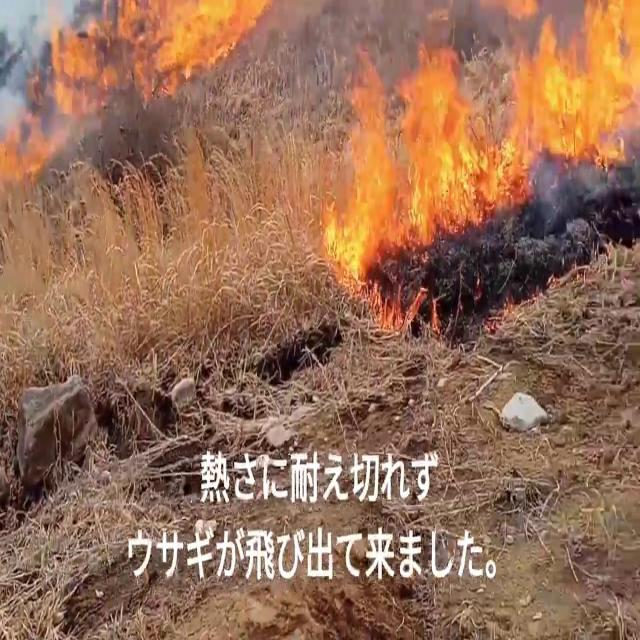Fire: (316, 0, 639, 289), (39, 0, 281, 104), (0, 111, 48, 187)
